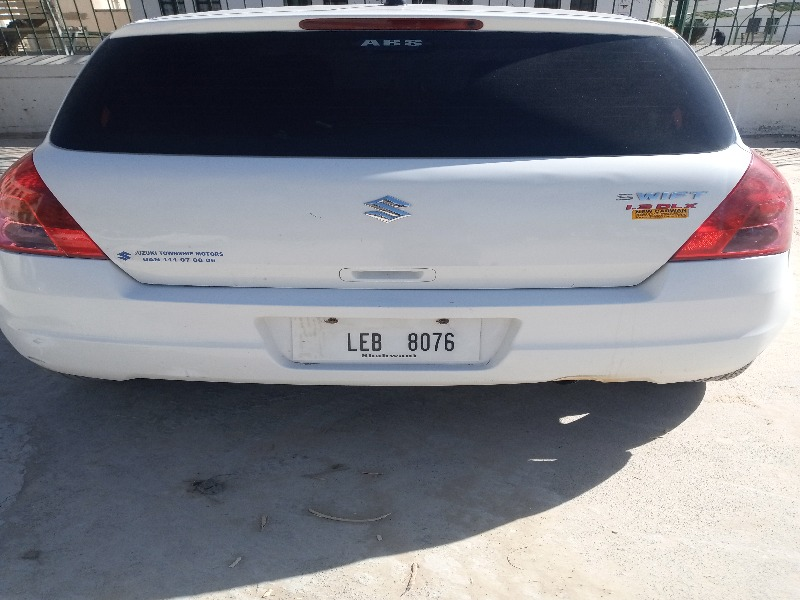License Plate: (288, 311, 487, 368)
